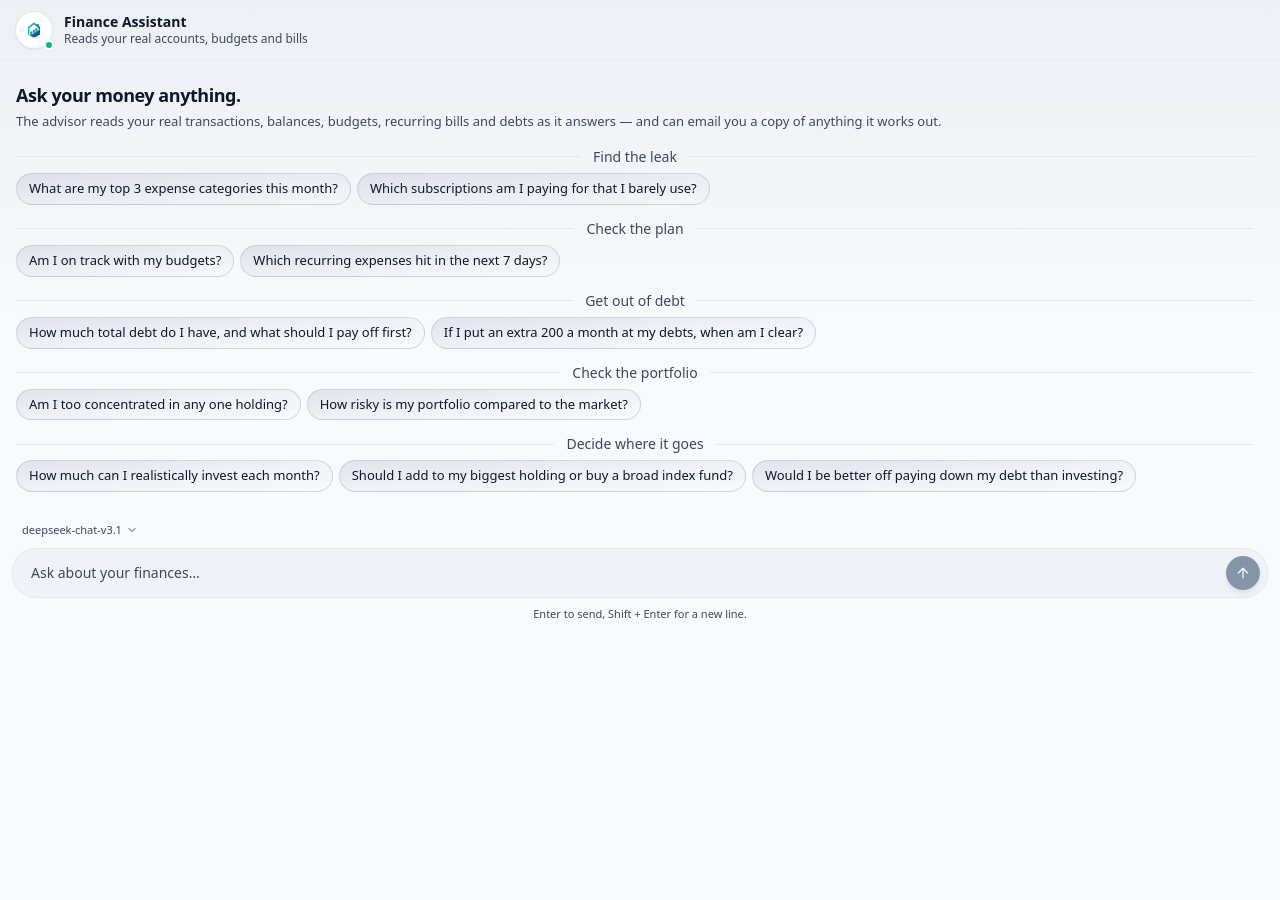
it: advisor skills › filters the menu as you type, picks with a click and closes on Escape
This screenshot has width=1280, height=900.
Type "/res" into the text box labelled "Ask about your finances…".
click(619, 573); type("/res")  # box x1=19 y1=555 x2=1219 y2=591
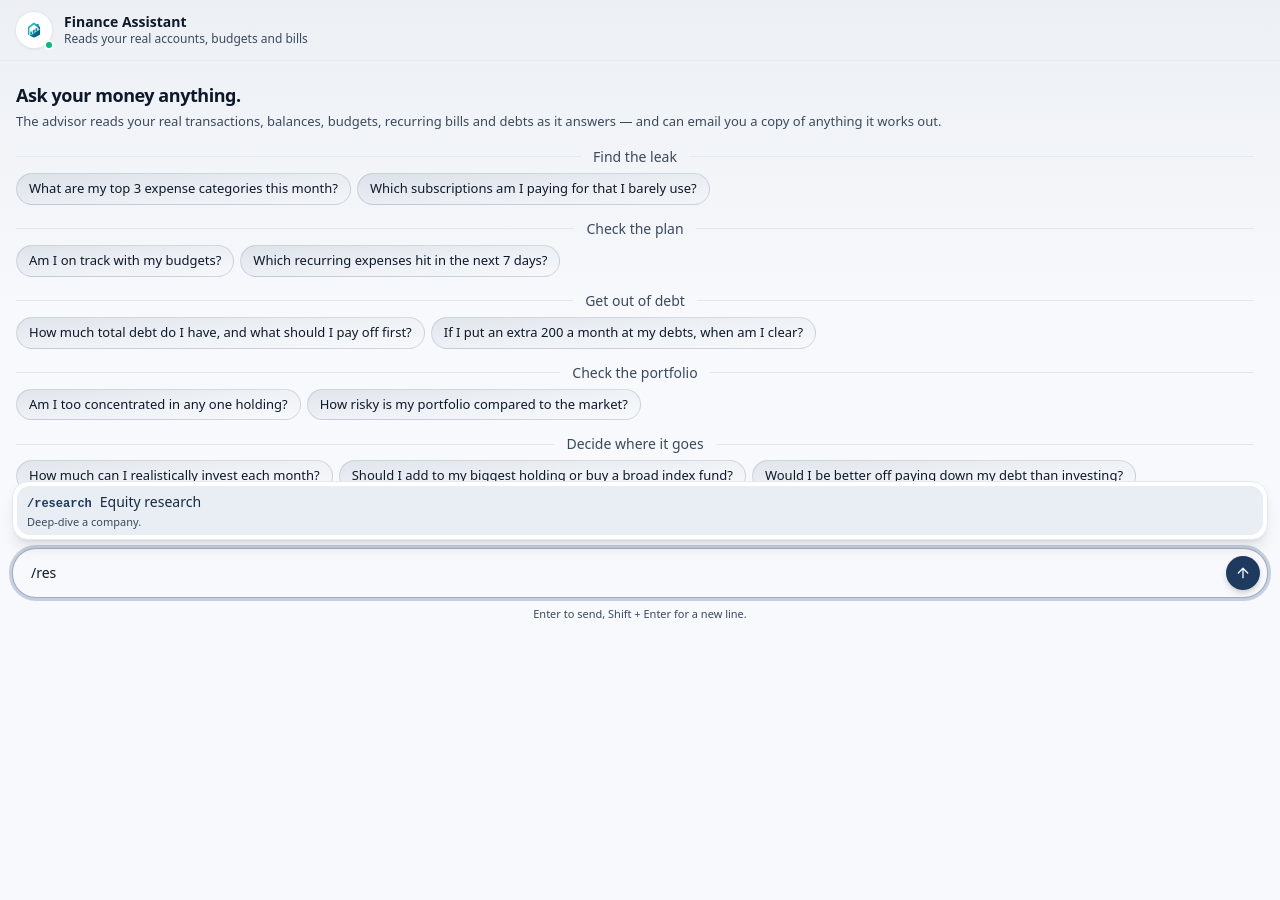
Result: the number of options is 1
Click the option "/research Equity research Deep-dive a company.".
click(63, 504)  # box x1=17 y1=486 x2=1263 y2=535
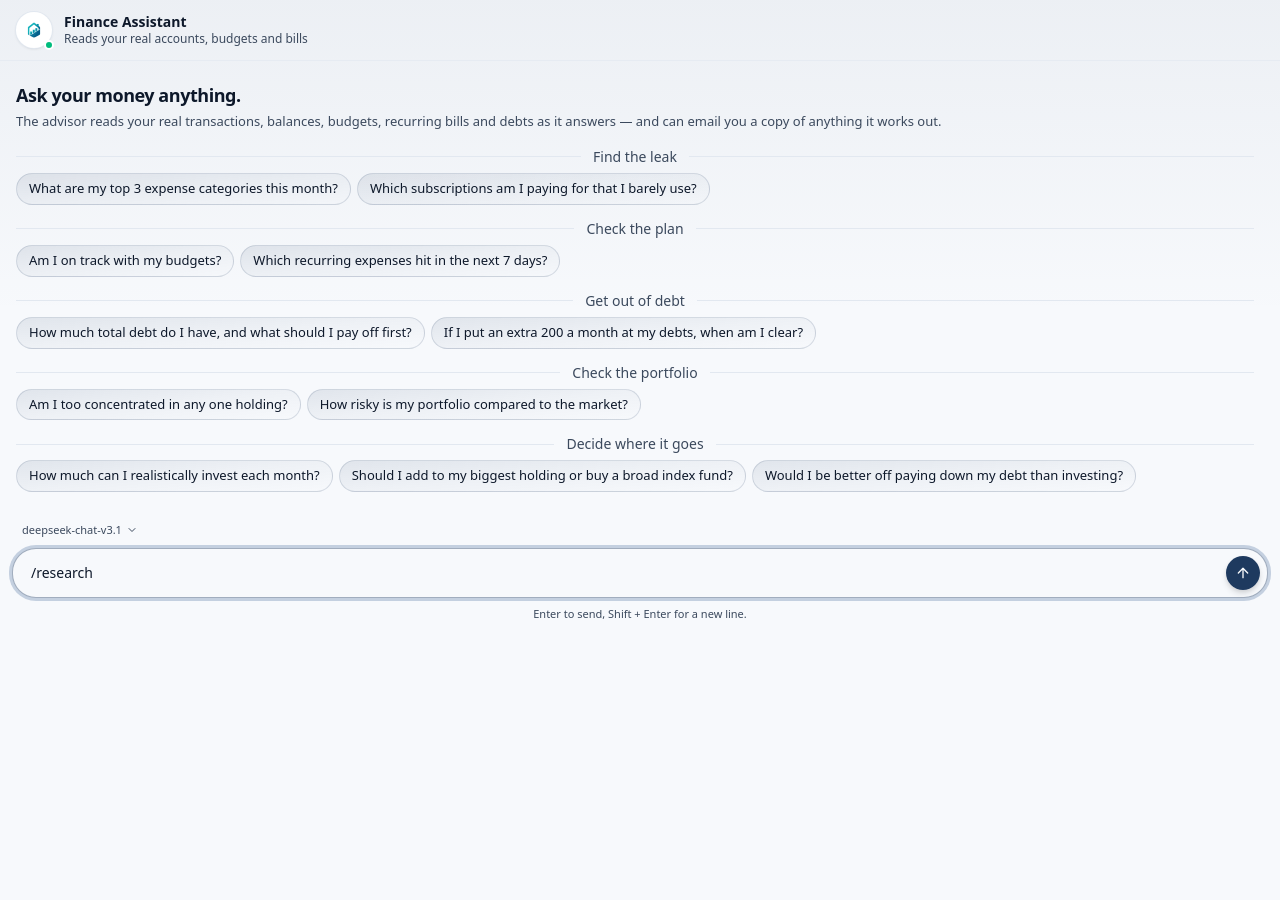
Result: the text box named "Ask about your finances" holds "/research "
Replace the text in the text box named "Ask about your finances" with "/" at coordinates (619, 573), box x1=19 y1=555 x2=1219 y2=591
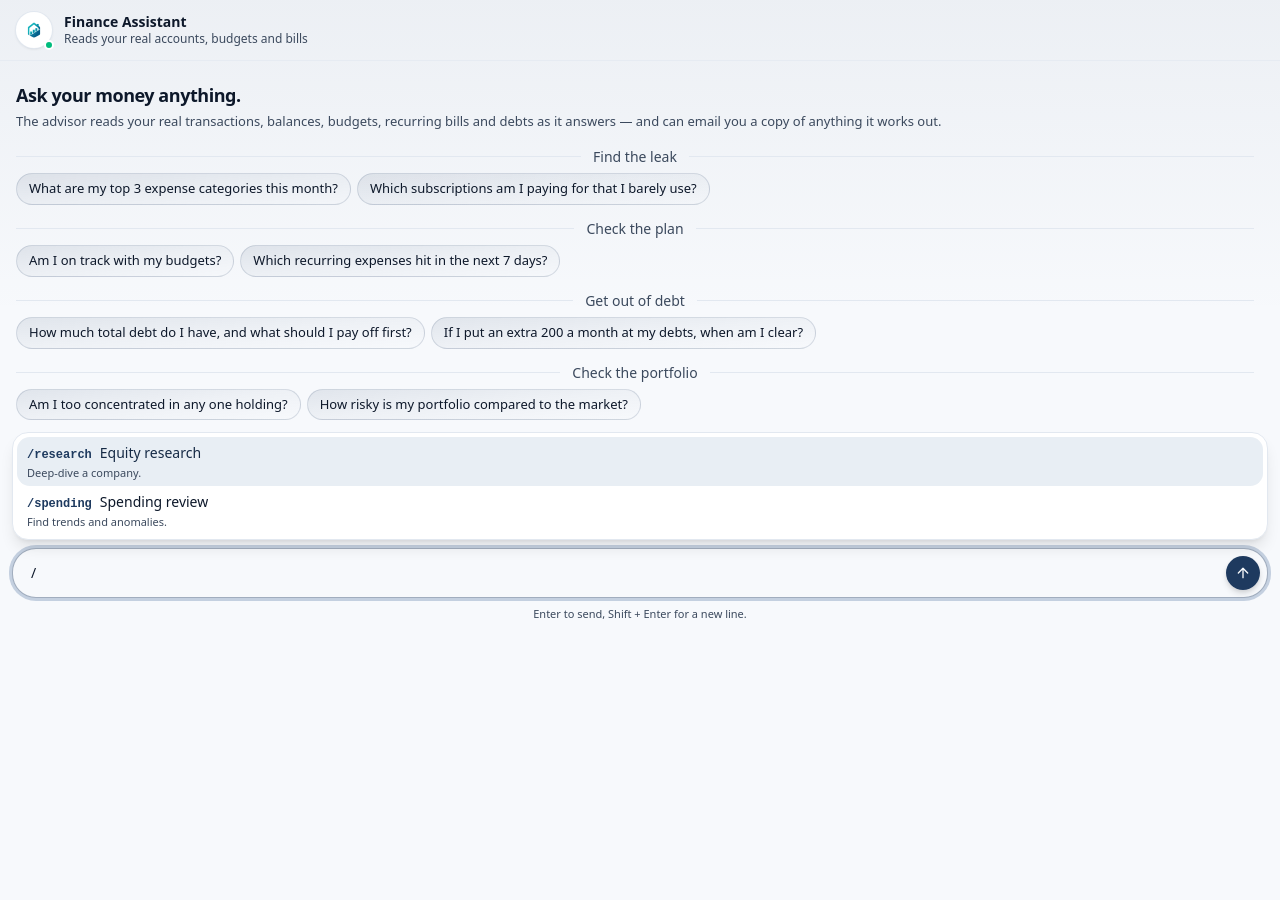
Result: the list is shown at x1=12 y1=432 x2=1268 y2=540
Press Escape
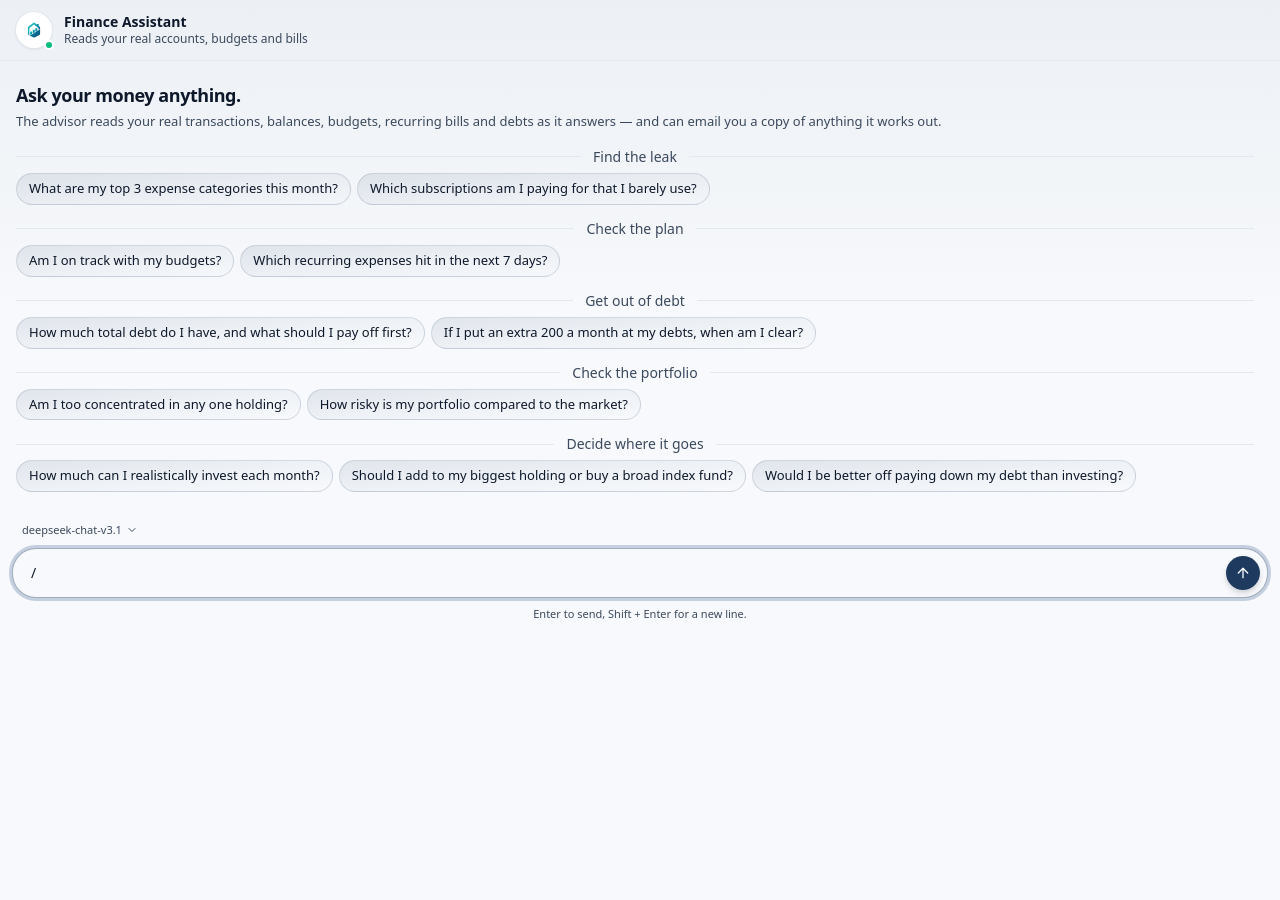
Result: the list is gone
